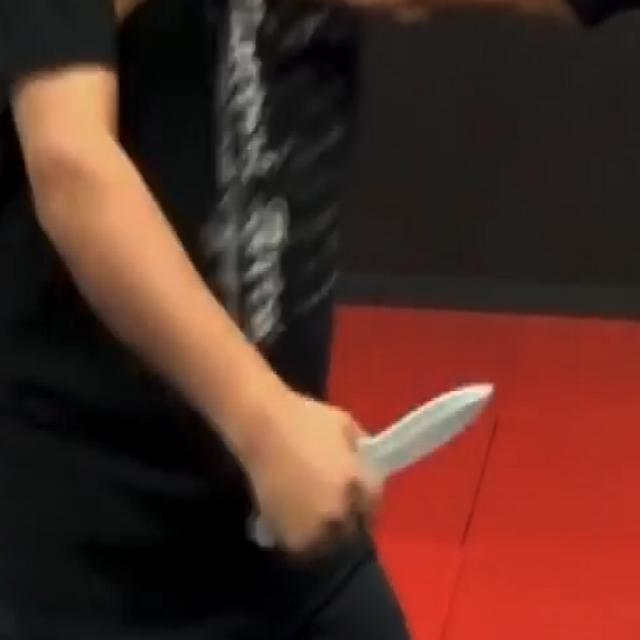suspicion: (5, 3, 503, 566), (371, 379, 497, 480), (250, 517, 277, 552)
